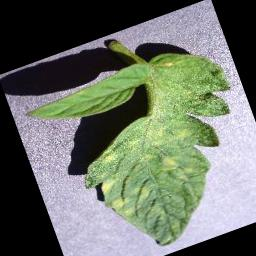Leaf_Mold: (155, 148, 185, 176), (107, 191, 133, 214), (97, 176, 117, 196), (99, 146, 118, 165), (158, 56, 176, 72)
